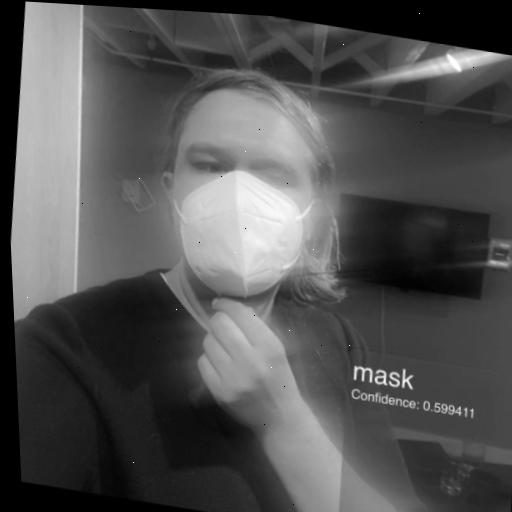mask: (139, 48, 371, 327)
